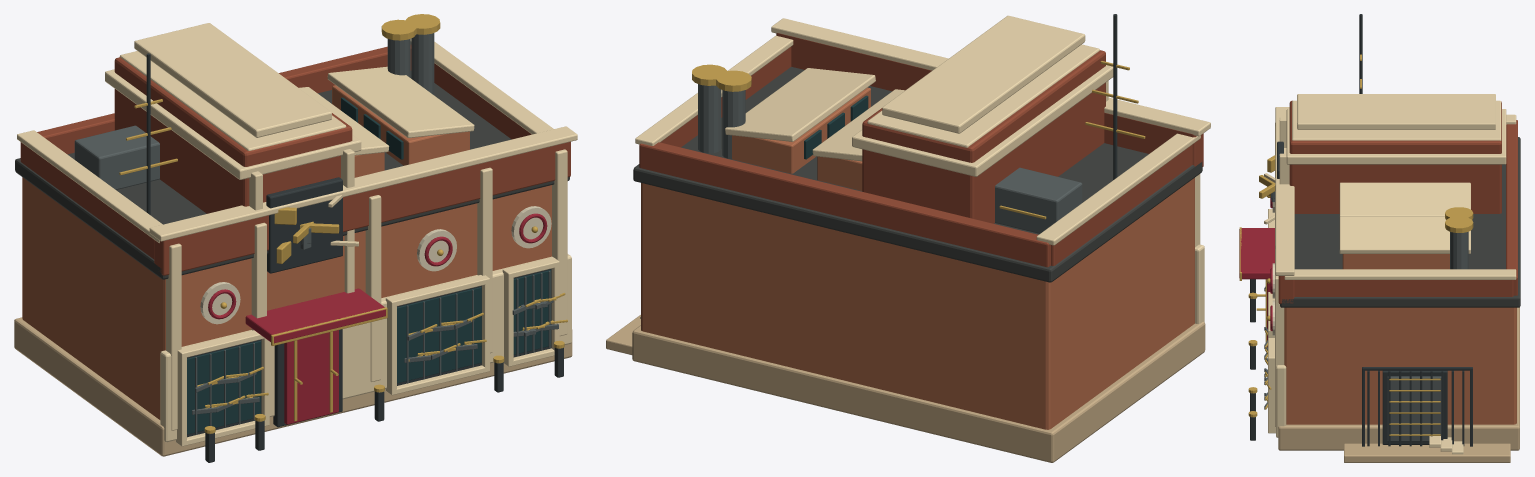
Rendered from gun_shop.e97d6fac4097.glb.
3 renders of one model, left to right at view 1: azimuth 30°, elevation 25°; view 2: azimuth 150°, elevation 25°; view 3: azimuth 270°, elevation 25°, orthographic. The views are drawn at different scales.
Parts seen in each view (by area): view 1: Long armory shell, Entrance tower, Tower limestone step, Long front parapet, Limestone armored plinth, Heavy roof slab, Front parapet cap, Ground facade armor, Clerestory sloped cap, East display glass, Emblem backing, West display glass (+40 smaller); view 2: Long armory shell, Limestone armored plinth, Entrance tower, Heavy roof slab, Rear parapet, Tower limestone step, Clerestory sloped cap, Long front parapet, Front parapet cap, HVAC ammo case, Tower limestone step.001, Tower limestone step.002 (+13 smaller); view 3: Long armory shell, Entrance tower, Heavy roof slab, Tower limestone step, Clerestory sloped cap.001, Clerestory sloped cap, Limestone armored plinth, Side parapet, Loading apron, Tower limestone step.001, Tower limestone step.002, Armored delivery shutter (+15 smaller).
Part boxes in pixels (x1,y1,x2,y2): Long armory shell: [22, 177, 551, 419]; Entrance tower: [114, 57, 352, 213]; Tower limestone step: [134, 23, 331, 137]; Long front parapet: [154, 141, 570, 275]; Limestone armored plinth: [14, 317, 572, 456]; Heavy roof slab: [15, 71, 569, 279]; Front parapet cap: [149, 126, 577, 241]; Ground facade armor: [160, 254, 571, 442]; Clerestory sloped cap: [327, 66, 474, 137]; East display glass: [397, 287, 481, 383]; Emblem backing: [266, 177, 342, 273]; West display glass: [187, 341, 260, 434]; Long armory shell: [641, 178, 1194, 429]; Limestone armored plinth: [632, 321, 1205, 462]; Entrance tower: [862, 50, 1105, 223]; Heavy roof slab: [633, 67, 1202, 282]; Rear parapet: [639, 142, 1050, 267]; Tower limestone step: [882, 15, 1085, 133]; Clerestory sloped cap: [725, 68, 875, 141]; Long front parapet: [776, 33, 1203, 166]; Front parapet cap: [771, 18, 1210, 136]; HVAC ammo case: [995, 167, 1082, 233]; Tower limestone step.001: [852, 65, 1113, 176]; Tower limestone step.002: [867, 44, 1099, 147]; Long armory shell: [1284, 307, 1516, 424]; Entrance tower: [1289, 100, 1501, 213]; Heavy roof slab: [1280, 137, 1520, 307]; Tower limestone step: [1297, 94, 1495, 129]; Clerestory sloped cap.001: [1339, 182, 1470, 216]; Clerestory sloped cap: [1339, 216, 1470, 253]; Limestone armored plinth: [1278, 307, 1519, 450]; Side parapet: [1294, 280, 1513, 296]; Loading apron: [1344, 443, 1510, 462]; Tower limestone step.001: [1286, 109, 1506, 164]; Tower limestone step.002: [1292, 100, 1501, 140]; Armored delivery shutter: [1387, 376, 1441, 441].
Size of the model in its own units: 16.95 by 13 by 11.46.
